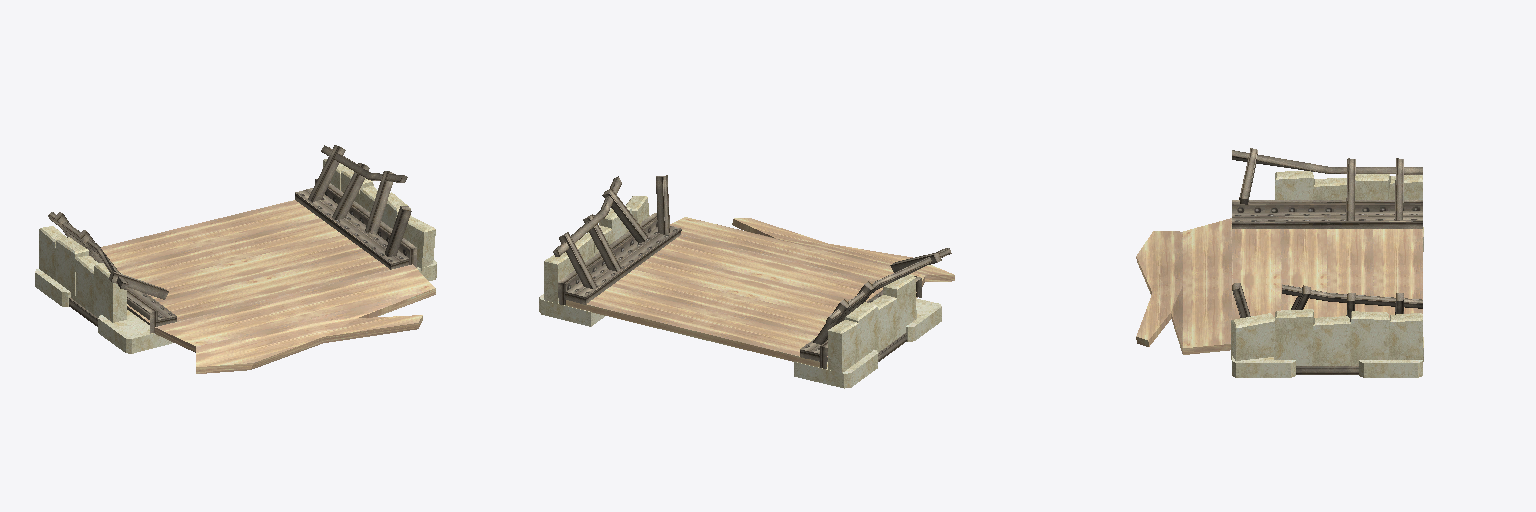
The picture shows the model from 3 angles: view 1: azimuth 30°, elevation 25°; view 2: azimuth 150°, elevation 25°; view 3: azimuth 270°, elevation 25°; orthographic projection.
Parts seen in each view (by area): view 1: Node 0; view 2: Node 0; view 3: Node 0.
Boxes of the visible parts, x1=… form: Node 0: x1=35, y1=145, x2=436, y2=373; Node 0: x1=539, y1=175, x2=954, y2=388; Node 0: x1=1136, y1=148, x2=1423, y2=377.
Size of the model in its own units: 19.22 by 5.08 by 15.01.
3 materials, 3 textured.